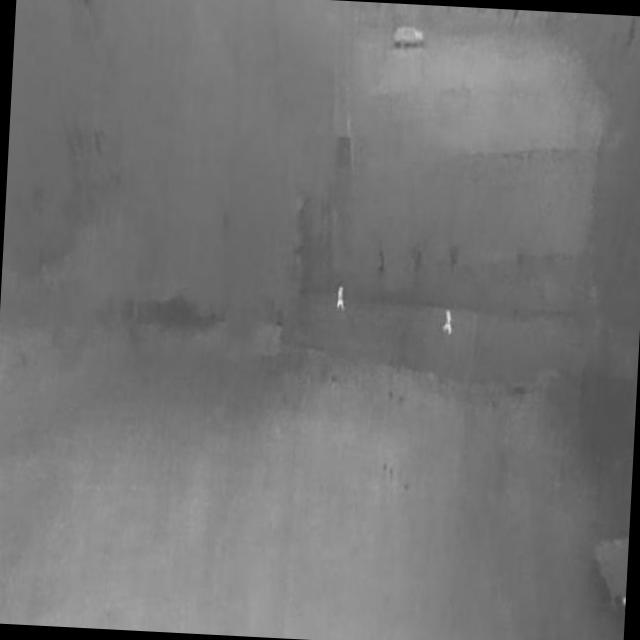person: (442, 310, 457, 337), (335, 285, 348, 313)
